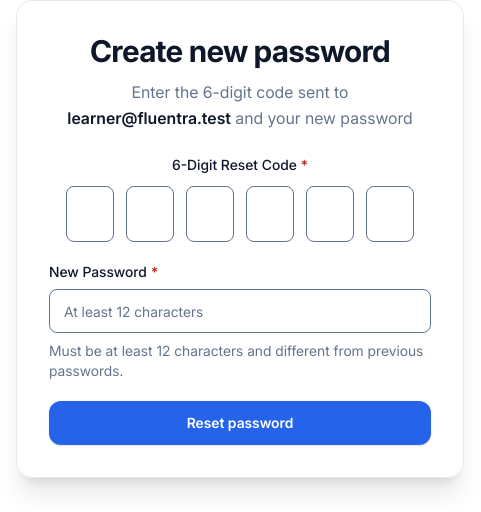
Auth Flows (Tasks 1, 3, 4, 5, 6, 7, 8) › Task 3 & 8: Forgot and Reset Password (PasswordChanged shape) › resets password using PasswordChanged OpenAPI schema and displays sessions revoked notice
Click the field named "Digit 1 of 6": (90, 214) [66,186,114,242]
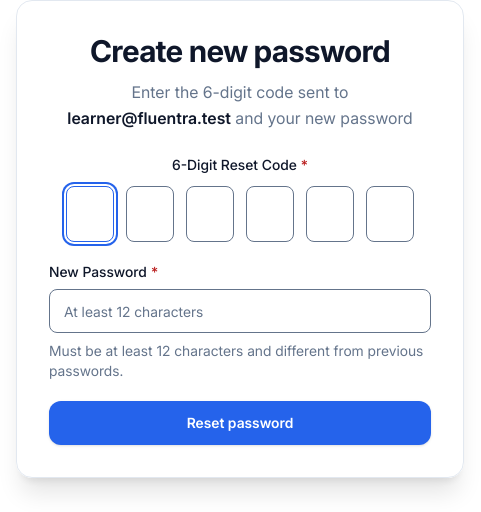
Type keys "654321"
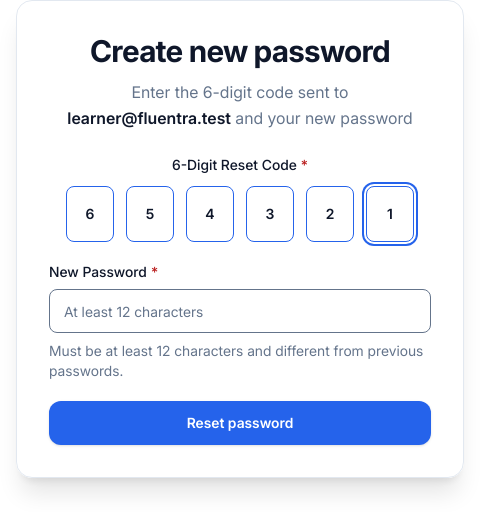
In the password field labelled "New Password *": (240, 311) [49,289,431,333], type "BrandNewSecurePassword123!"
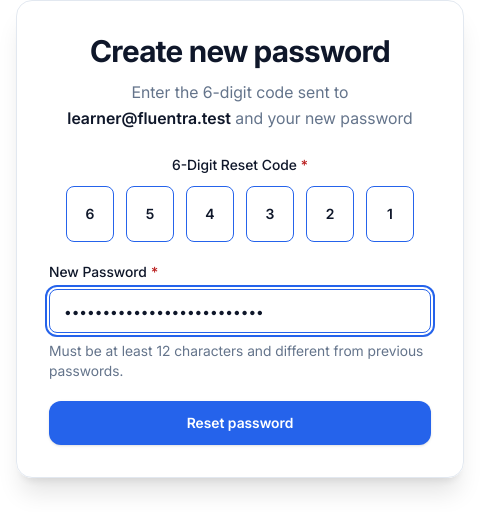
Click the button "Reset password": (240, 423) [49,401,431,445]
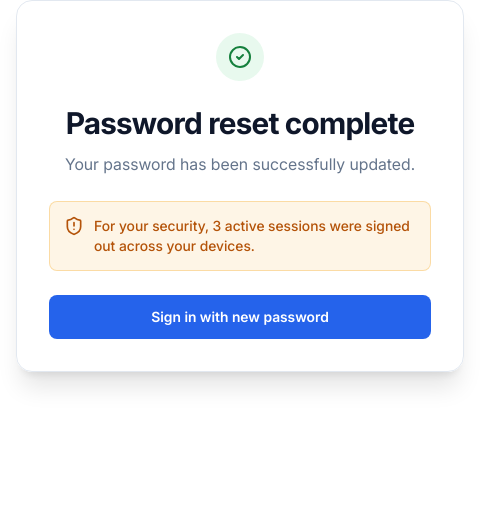
Expected: the message shows "3 active sessions were signed out", [49,200,431,270]
